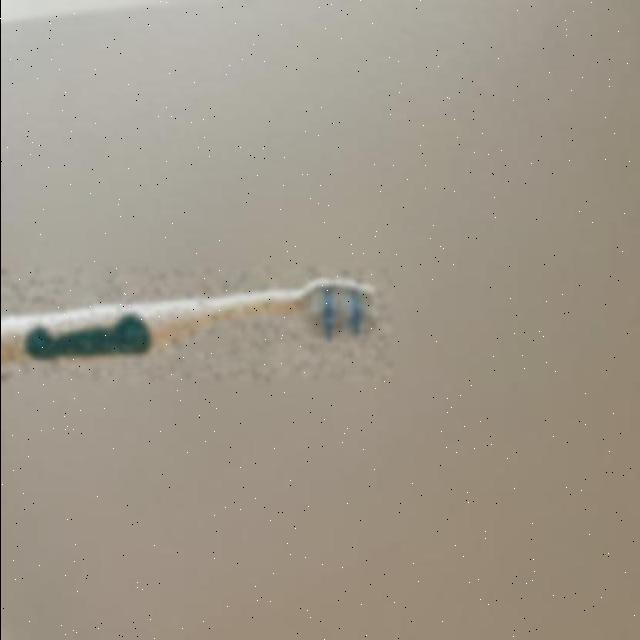toothbrush: (0, 269, 390, 381)
